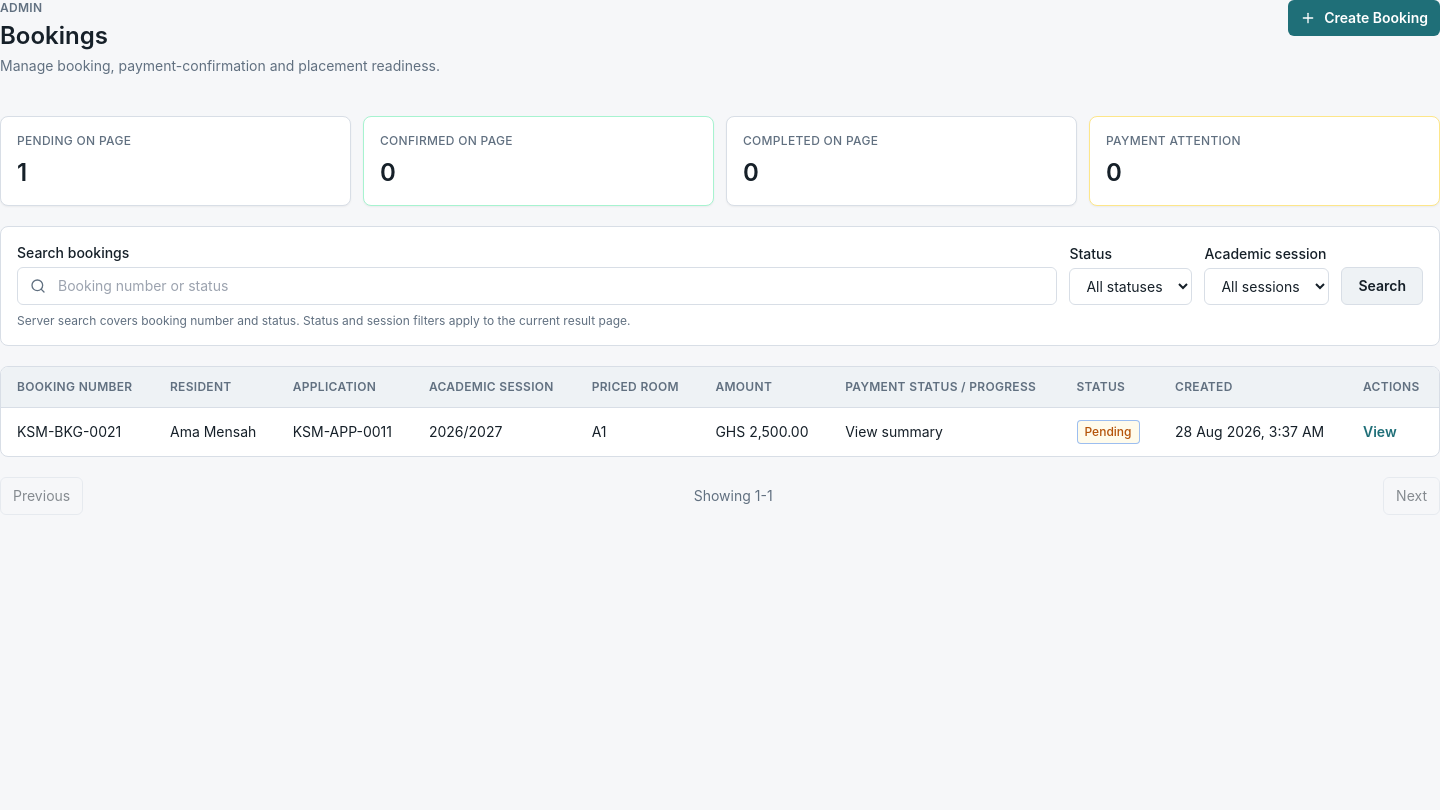
Scenario: BookingsPage › opens booking detail with payment summary and pricing basis
Click the button "View". click: (1380, 432)
box: [1363,422,1397,442]
(page scrolled)
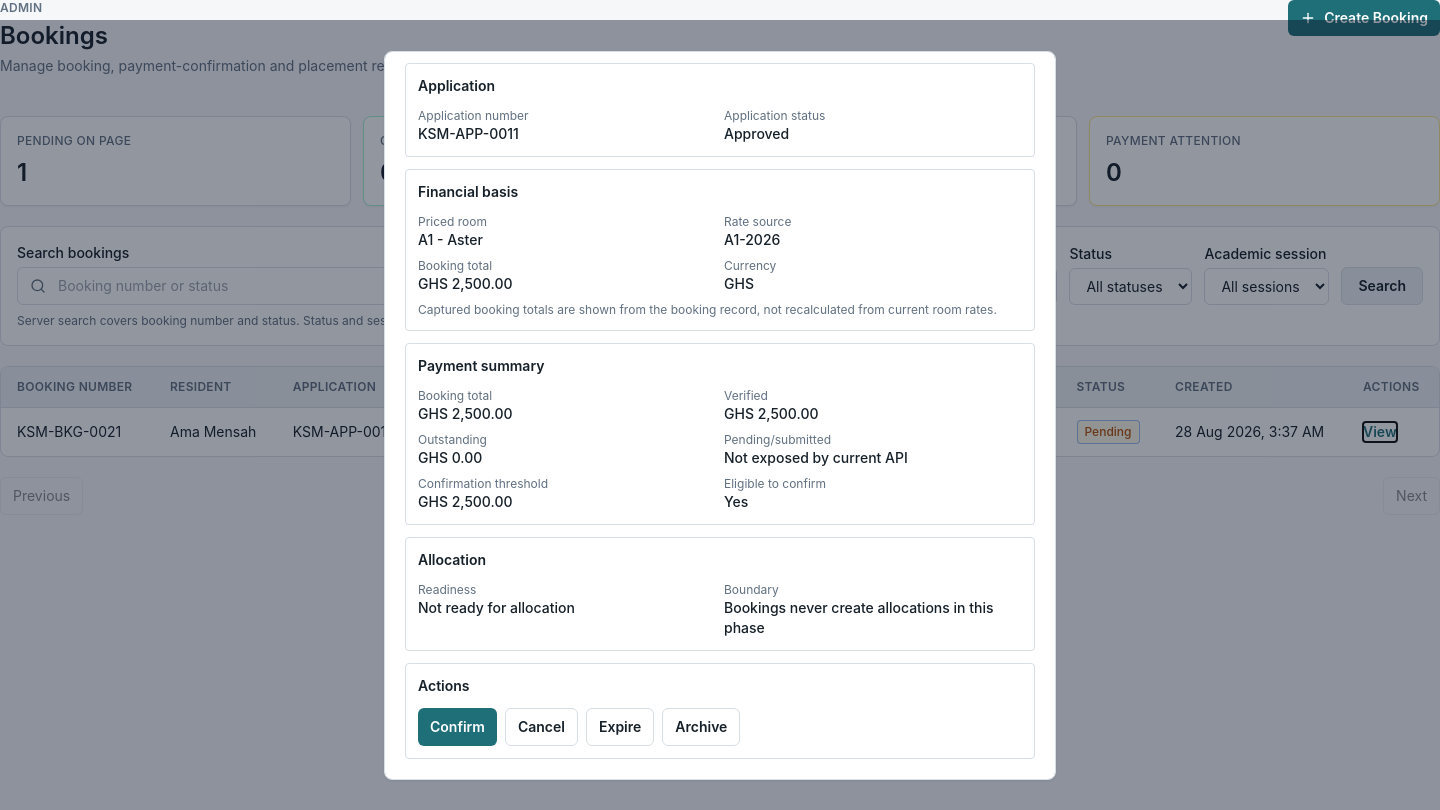
Now the text "A1 - Aster" is shown, box [418,230,483,248]
Now the text "A1-2026" is shown, box [724,230,780,248]
Now the text "Eligible to confirm" is shown, box [724,476,826,490]
